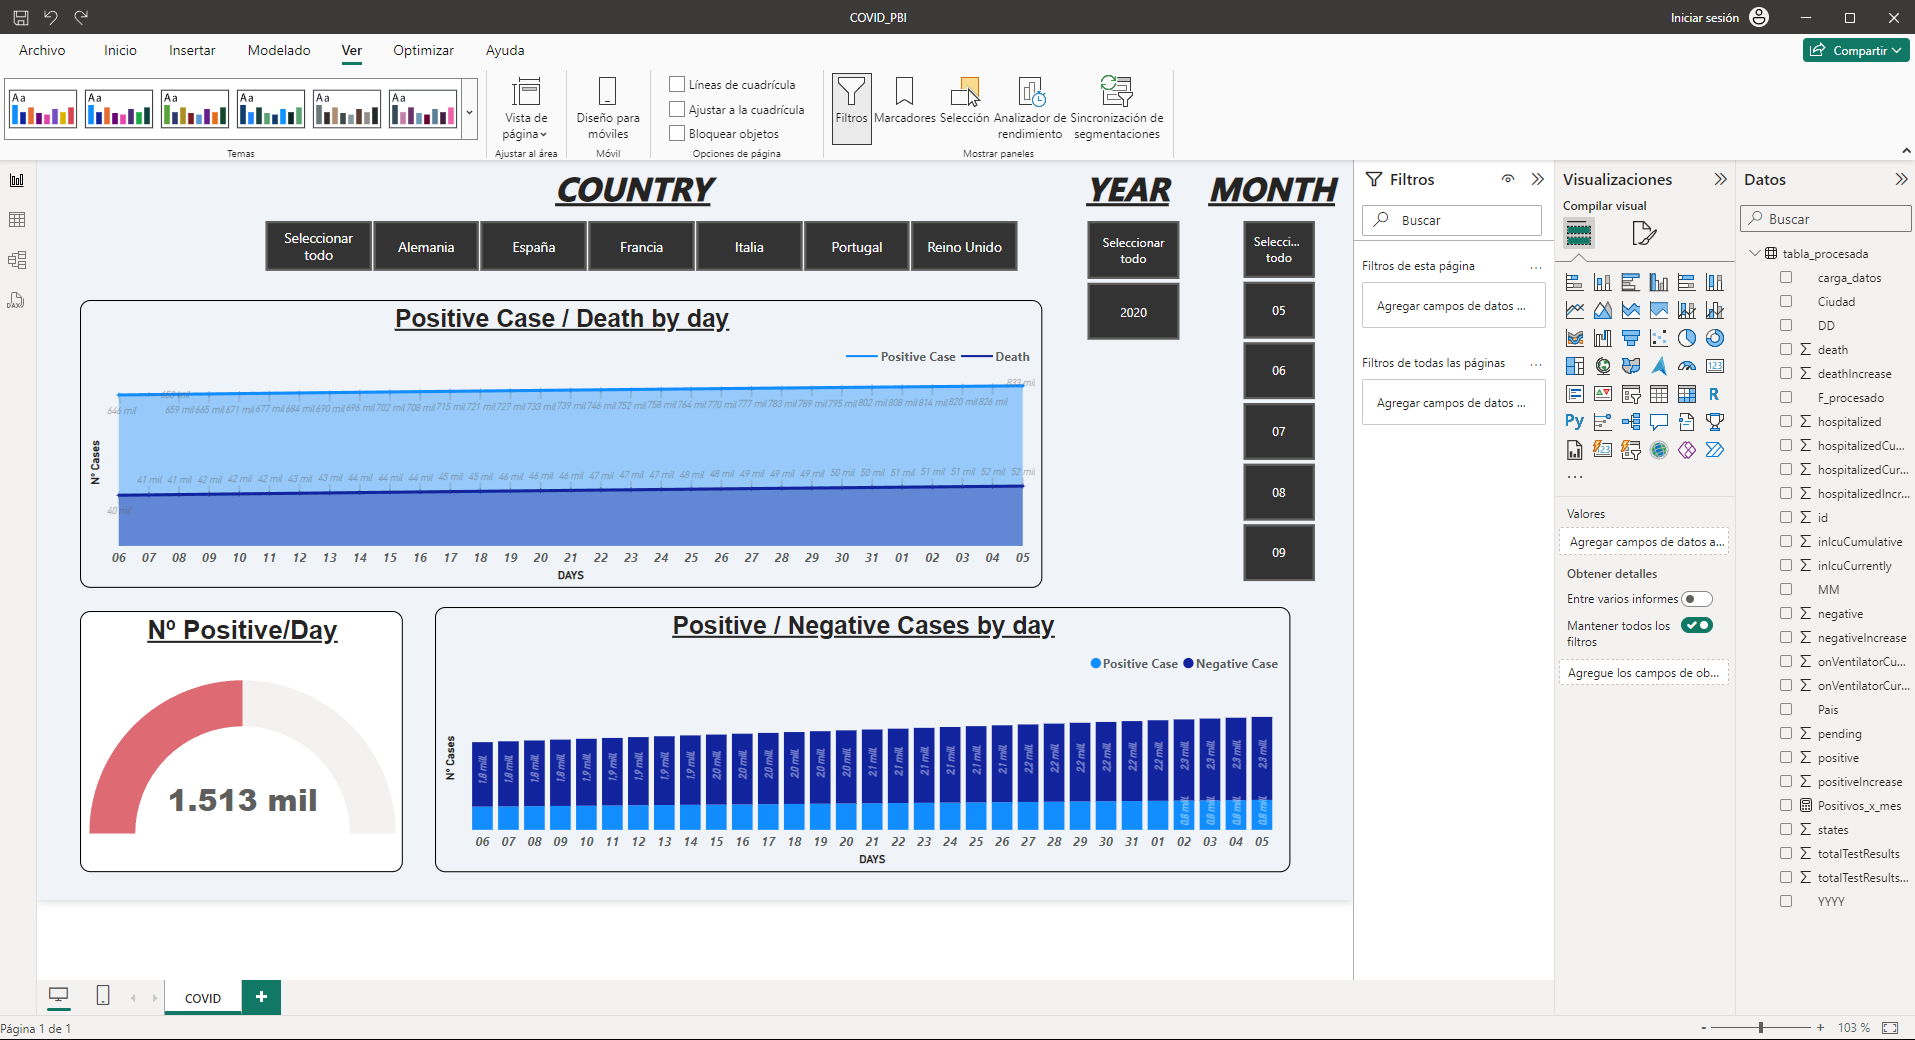

This screenshot's page, from the dashboard's own definition file:
{"tool":"powerbi","page":{"name":"COVID","canvas":[1280,720],"ordinal":0},"visuals":[{"type":"areaChart","title":"Positive Case / Death by day","fields":{"Category":["tabla_procesada.DD"],"Y":["Min(tabla_procesada.positive)","Min(tabla_procesada.death)"]},"box":[41.8,136.2,935.7,280.1],"z":0},{"type":"slicer","fields":{"Values":["tabla_procesada.Pais"]},"box":[196.5,52.5,781,62.2],"z":1000},{"type":"slicer","fields":{"Values":["tabla_procesada.MM"]},"box":[1147.7,52.5,118.7,363.8],"z":2000},{"type":"textbox","box":[1134.1,0,144.9,52.5],"z":3000},{"type":"textbox","box":[499,0,177,52.5],"z":4000},{"type":"slicer","fields":{"Values":["tabla_procesada.YYYY"]},"box":[996,52.5,139.1,129.4],"z":5000},{"type":"textbox","box":[1015.4,0,101.2,52.5],"z":6000},{"type":"columnChart","title":"Positive / Negative Cases by day","fields":{"Category":["tabla_procesada.DD"],"Y":["Min(tabla_procesada.positive)","Min(tabla_procesada.negative)"]},"box":[387.1,434.8,831.6,257.8],"z":7000},{"type":"gauge","title":"Nº Positive/Day","fields":{"Y":["tabla_procesada.Positivos_x_mes"]},"box":[41.8,438.7,314.2,253.9],"z":8000}]}

Visuals, with their boxes on the page's 1280x720 design canvas (x1, y1, x2, y2). These are canvas units, not pixel positions in the 1915x1040 screenshot, which may show the page scaled, cropped or inside an application window:
"Positive Case / Death by day" areaChart: region(42, 136, 978, 416)
slicer - tabla_procesada.Pais: region(196, 52, 978, 115)
slicer - tabla_procesada.MM: region(1148, 52, 1266, 416)
textbox: region(1134, 0, 1279, 52)
textbox: region(499, 0, 676, 52)
slicer - tabla_procesada.YYYY: region(996, 52, 1135, 182)
textbox: region(1015, 0, 1117, 52)
"Positive / Negative Cases by day" columnChart: region(387, 435, 1219, 693)
"Nº Positive/Day" gauge: region(42, 439, 356, 693)
